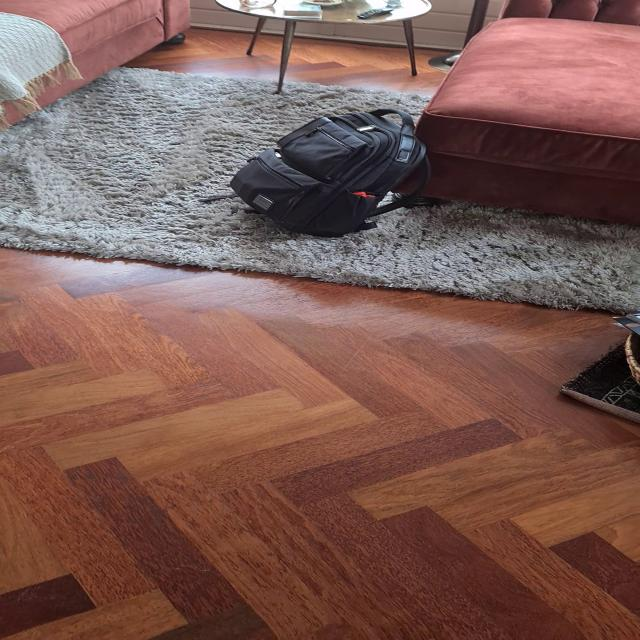backpack: (222, 105, 441, 242)
